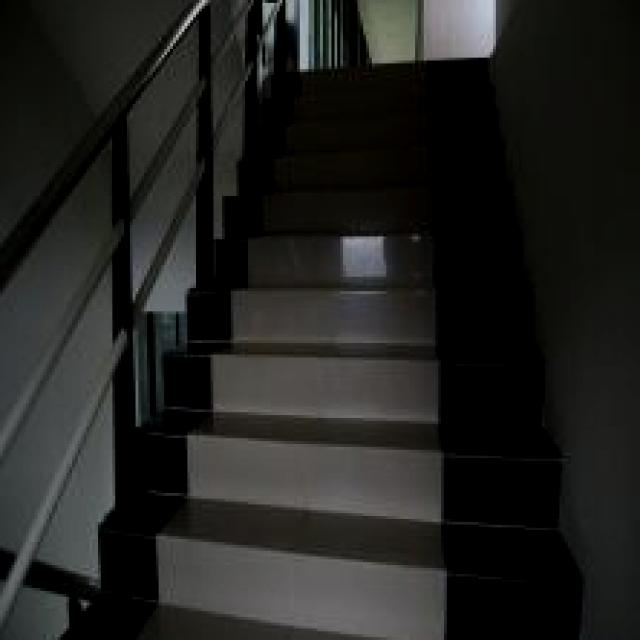upstair: (272, 108, 500, 503)
